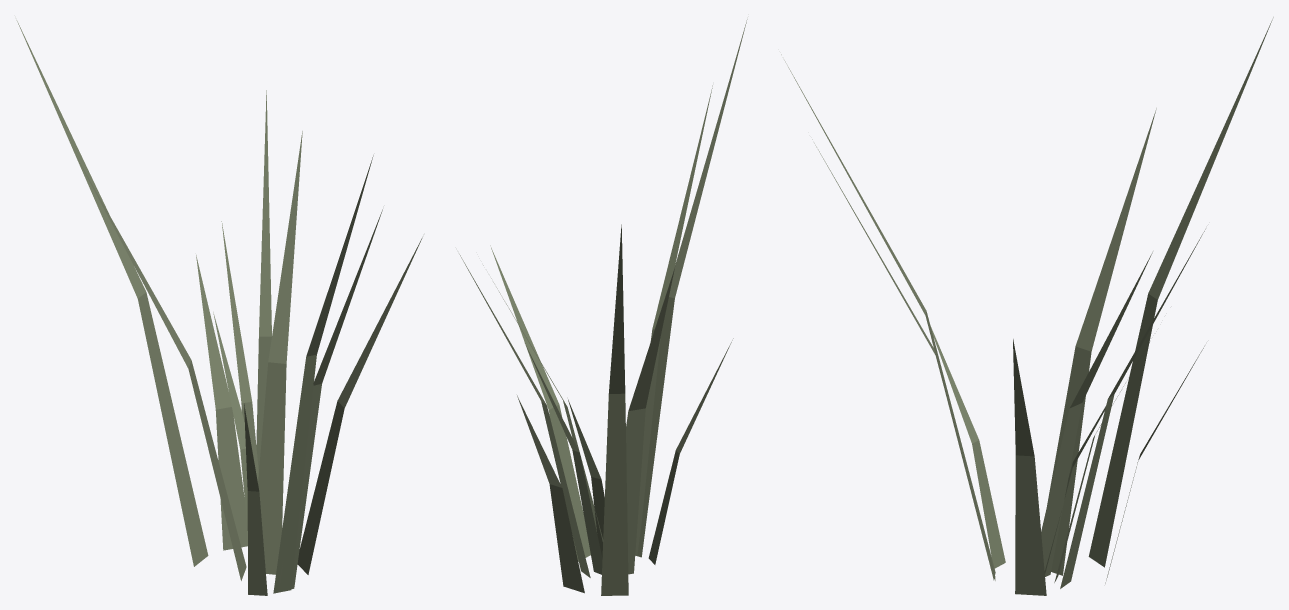
The model's file is AE_Grass_-6_3.fbx.
The picture shows the model from 3 angles, left to right: view 1: azimuth 30°, elevation 25°; view 2: azimuth 150°, elevation 25°; view 3: azimuth 270°, elevation 25°; orthographic projection. The views are drawn at different scales.
Parts seen in each view (by area): view 1: AE_Grass_-6_3_LOD0; view 2: AE_Grass_-6_3_LOD0; view 3: AE_Grass_-6_3_LOD0.
Boxes of the visible parts, x1,y1,x2,y2 form: AE_Grass_-6_3_LOD0: (16,20,422,595); AE_Grass_-6_3_LOD0: (459,19,747,595); AE_Grass_-6_3_LOD0: (781,17,1273,595).
Size of what is drawn, in the model's own units: 46.51 by 83.74 by 72.48.
